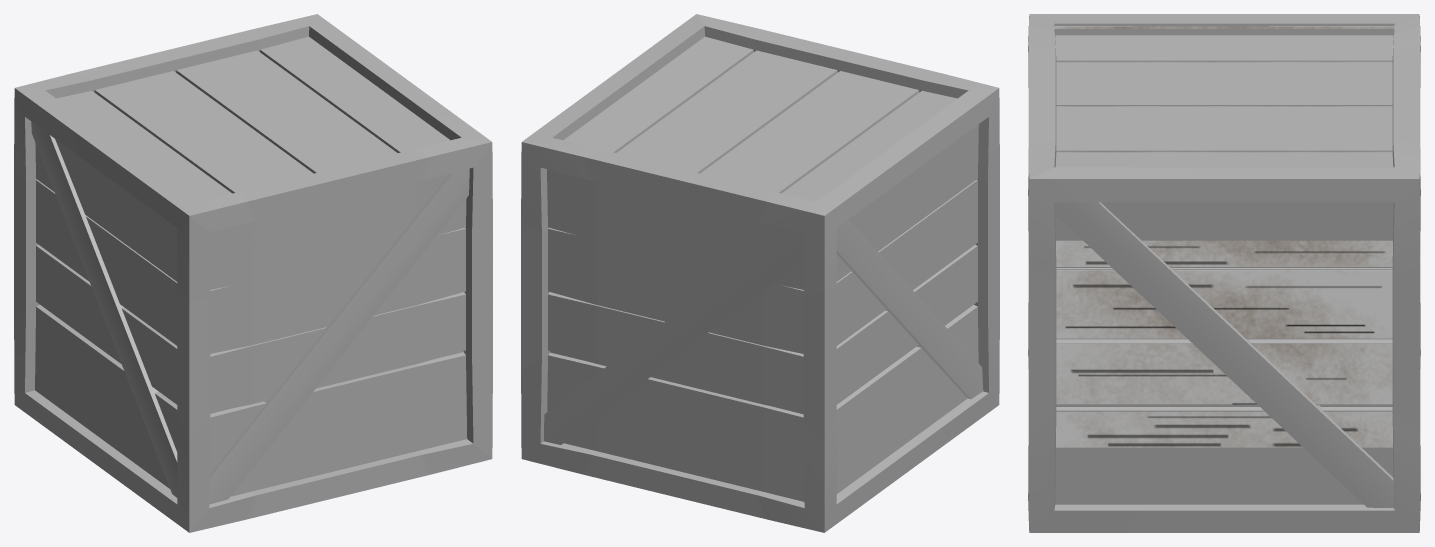
3 views of the same model, side by side, from view 1: azimuth 30°, elevation 25°; view 2: azimuth 150°, elevation 25°; view 3: azimuth 270°, elevation 25° (orthographic). The views are drawn at different scales.
Parts seen in each view (by area): view 1: Box_Closed_Outline; view 2: Box_Closed_Outline; view 3: Box_Closed_Outline, Box_Closed.
Part boxes in pixels (x1=…): Box_Closed_Outline: x1=14, y1=14, x2=492, y2=532; Box_Closed_Outline: x1=521, y1=14, x2=999, y2=532; Box_Closed_Outline: x1=1028, y1=14, x2=1420, y2=532; Box_Closed: x1=1054, y1=26, x2=1394, y2=447.
Bounding box in the file's own units: 589 × 589 × 589.
